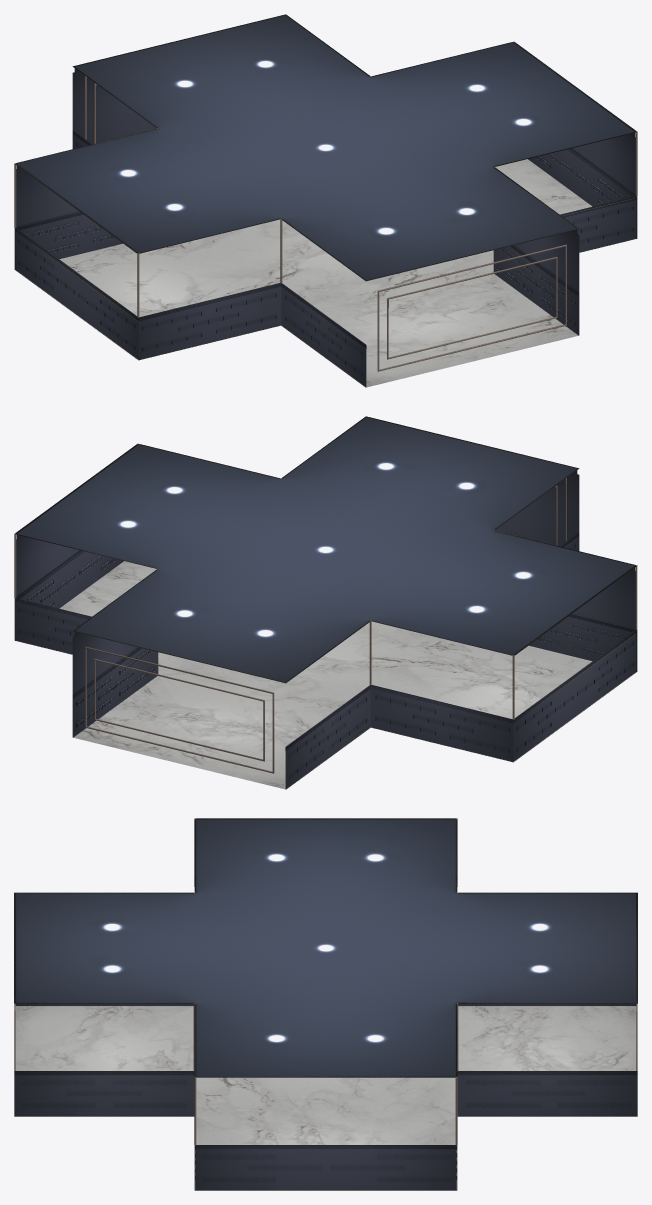
Rendered from Indigo chamber.glb.
The picture shows the model from 3 angles, top to bottom: view 1: azimuth 30°, elevation 25°; view 2: azimuth 150°, elevation 25°; view 3: azimuth 270°, elevation 25°; orthographic projection. The views are drawn at different scales.
Parts seen in each view (by area): view 1: Cealing, Floor, Mesh001, Mesh002, Mesh001_1; view 2: Cealing, Floor, Mesh001, Mesh002, Mesh001_1; view 3: Cealing, Floor, Mesh001, Mesh002, Mesh001_1.
Boxes of the visible parts, bbox=[...] form: Cealing: bbox=[14, 14, 636, 281]; Floor: bbox=[15, 159, 636, 387]; Mesh001: bbox=[15, 130, 636, 387]; Mesh002: bbox=[14, 15, 637, 292]; Mesh001_1: bbox=[14, 41, 637, 371]; Cealing: bbox=[15, 416, 637, 683]; Floor: bbox=[15, 561, 636, 789]; Mesh001: bbox=[15, 532, 636, 789]; Mesh002: bbox=[14, 416, 637, 694]; Mesh001_1: bbox=[14, 443, 637, 773]; Cealing: bbox=[14, 818, 637, 1077]; Floor: bbox=[14, 1006, 637, 1190]; Mesh001: bbox=[14, 1003, 637, 1190]; Mesh002: bbox=[14, 818, 637, 1077]; Mesh001_1: bbox=[14, 818, 637, 1145].
Size of the model in its own units: 1.06 by 0.2163 by 1.08.
7 materials, 5 textured.
